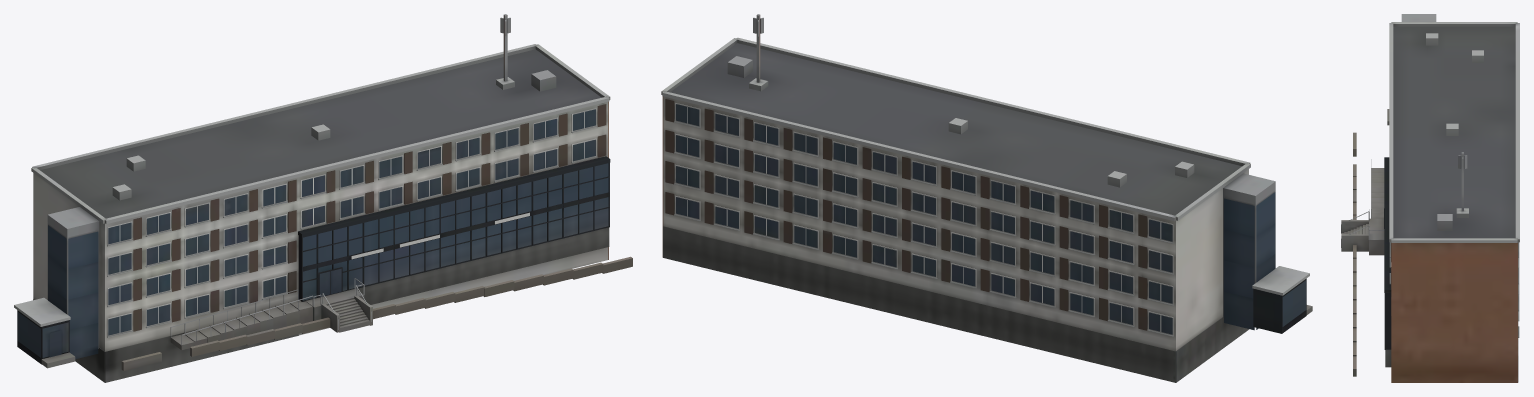
Rendered from pastas.glb.
3 renders of one model, left to right at view 1: azimuth 30°, elevation 25°; view 2: azimuth 150°, elevation 25°; view 3: azimuth 270°, elevation 25°, orthographic. The views are drawn at different scales.
Parts seen in each view (by area): view 1: building; view 2: building; view 3: building.
Boxes of the visible parts, bbox=[...] form: building: bbox=[14, 14, 632, 382]; building: bbox=[661, 14, 1312, 382]; building: bbox=[1341, 14, 1519, 382].
Size of the model in its own units: 56.7 by 22 by 17.52.
2 materials, 2 textured.
